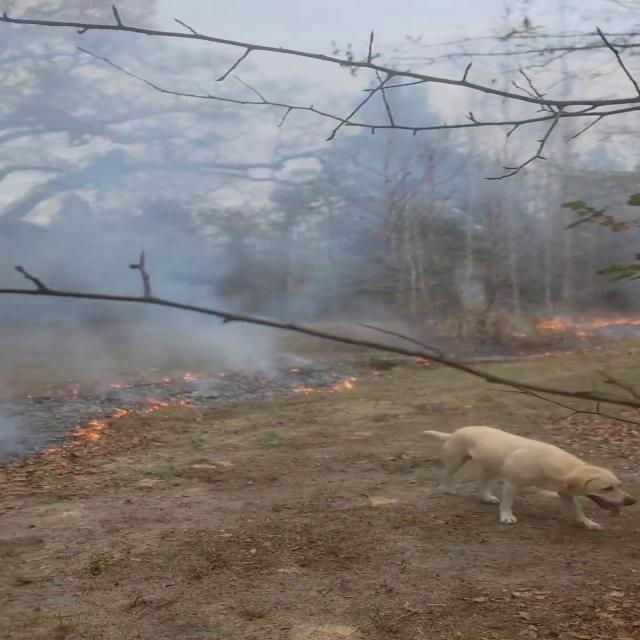Fire: (530, 304, 640, 337)
Smoke: (0, 25, 632, 417)
